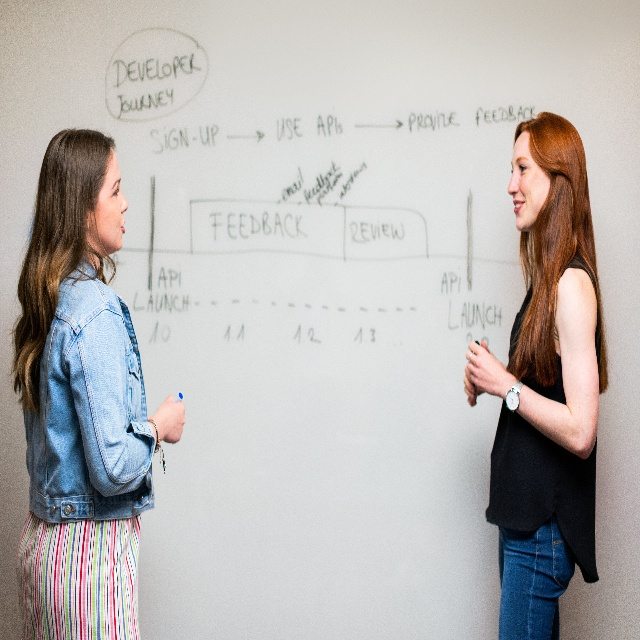Sin_guantes: (465, 341, 505, 398), (150, 394, 186, 444), (463, 374, 485, 406)
